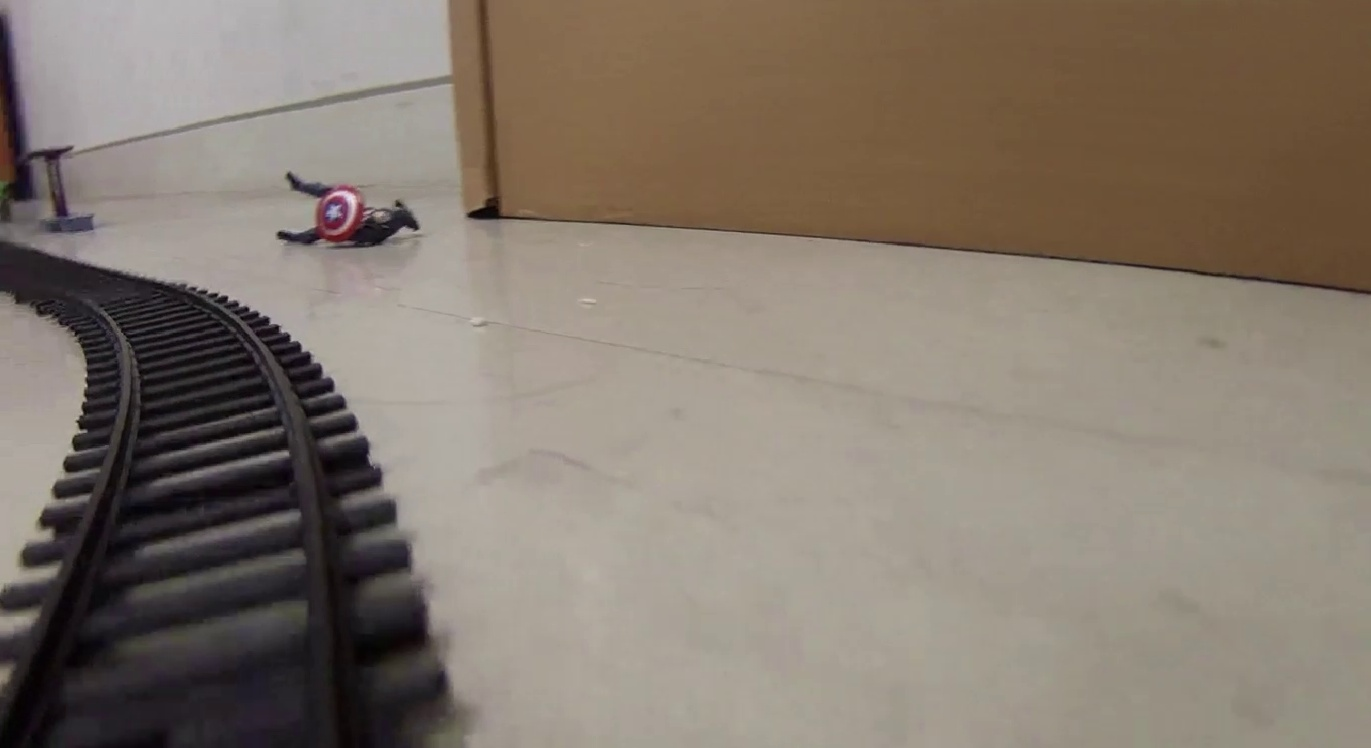people: (276, 169, 422, 252)
